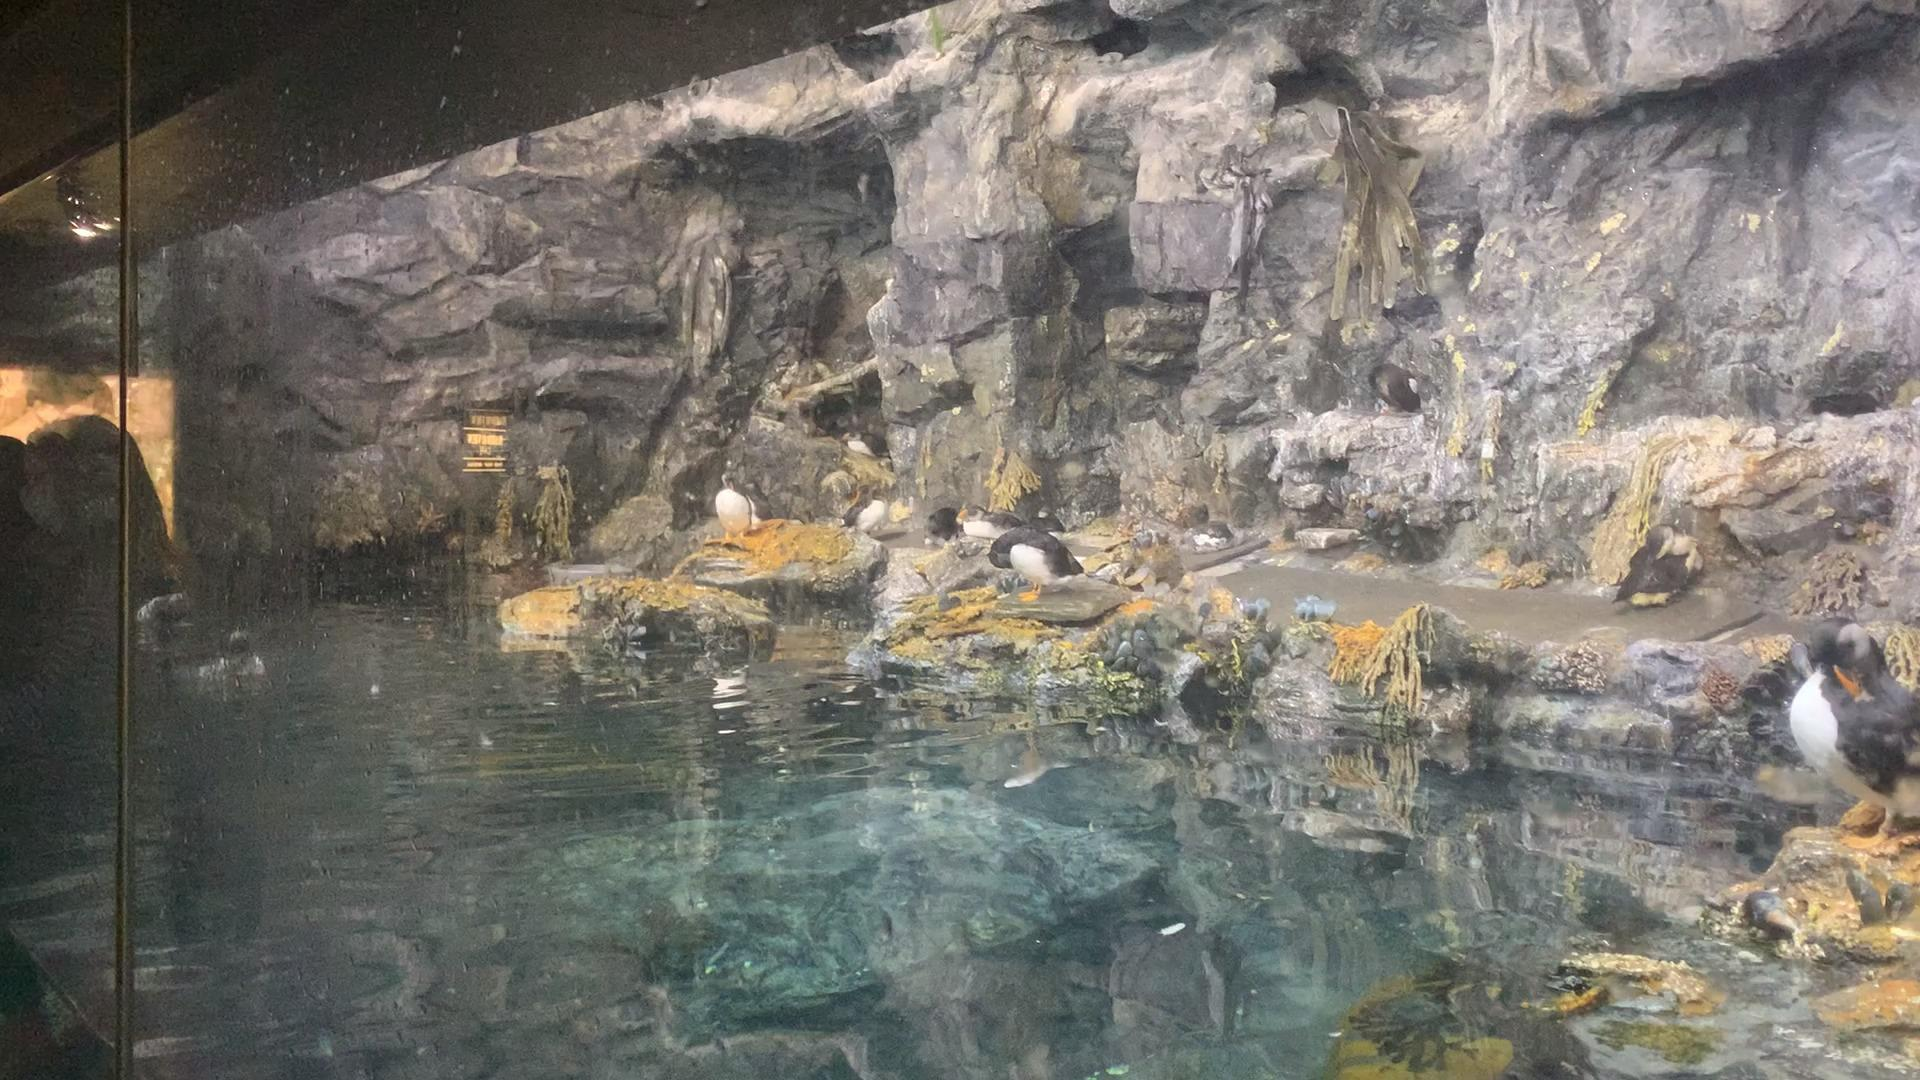puffin: (1793, 617, 1920, 843), (1607, 520, 1709, 607), (982, 524, 1091, 600), (702, 464, 771, 537), (1360, 352, 1431, 417), (949, 498, 1026, 541), (837, 480, 886, 539), (837, 422, 895, 469), (915, 498, 967, 545)
